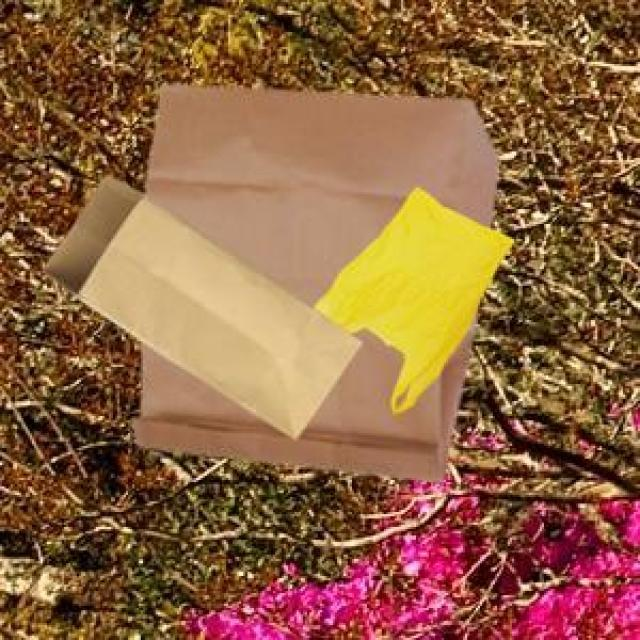paper: (130, 81, 497, 478), (41, 173, 356, 435)
